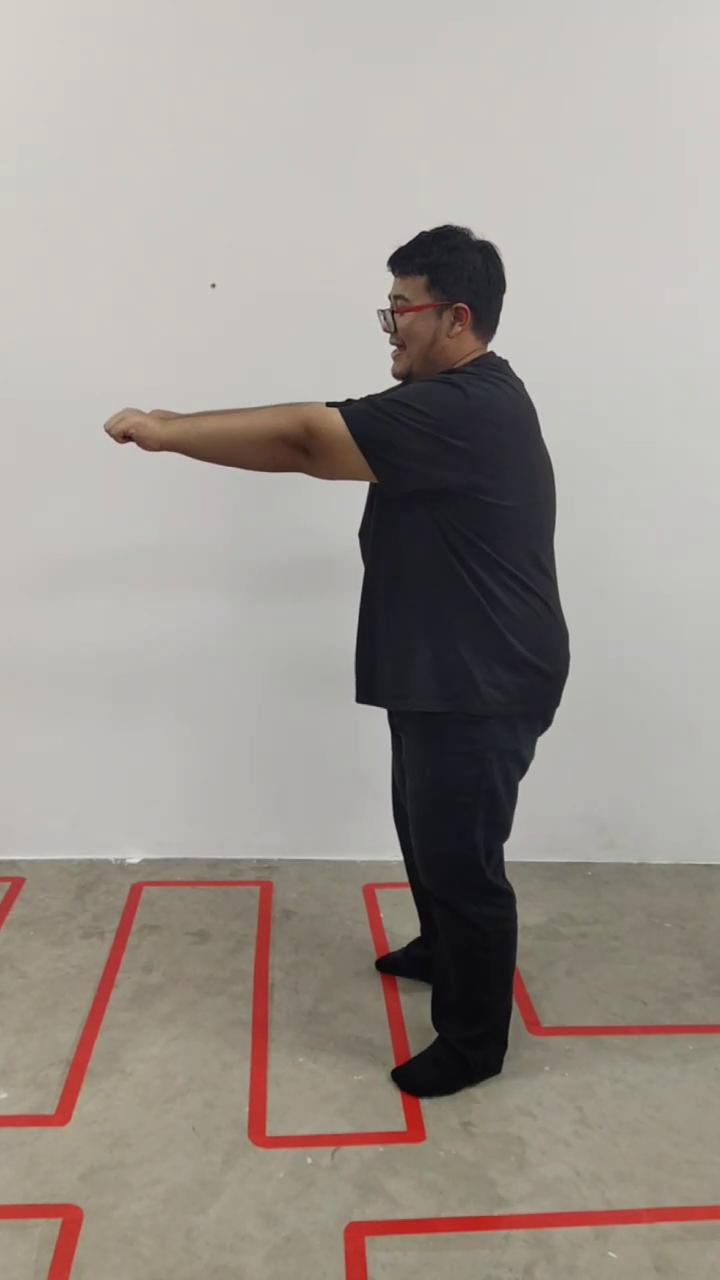squat up: (106, 223, 571, 1099)
